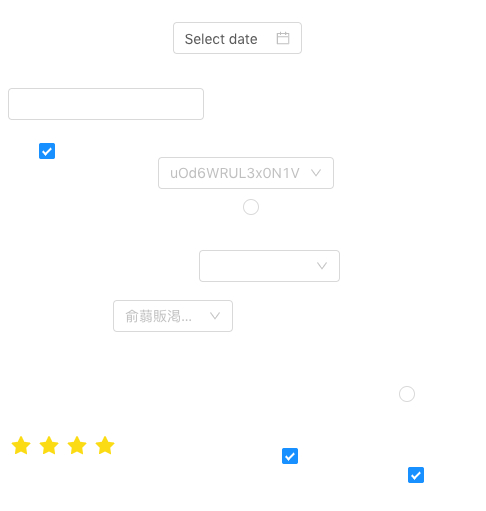Checkbox: (408, 464, 424, 485), (282, 445, 298, 466), (39, 140, 55, 161)
DatePicker: (173, 22, 302, 54)
Input: (8, 88, 204, 120)
Radio: (399, 383, 415, 403), (243, 196, 259, 216)
Rate: (11, 429, 131, 461)
Select: (158, 157, 334, 189), (199, 250, 340, 282), (113, 300, 233, 332)
